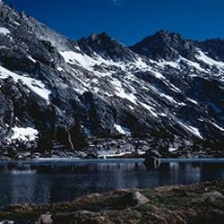neutral: (2, 2, 223, 220)
